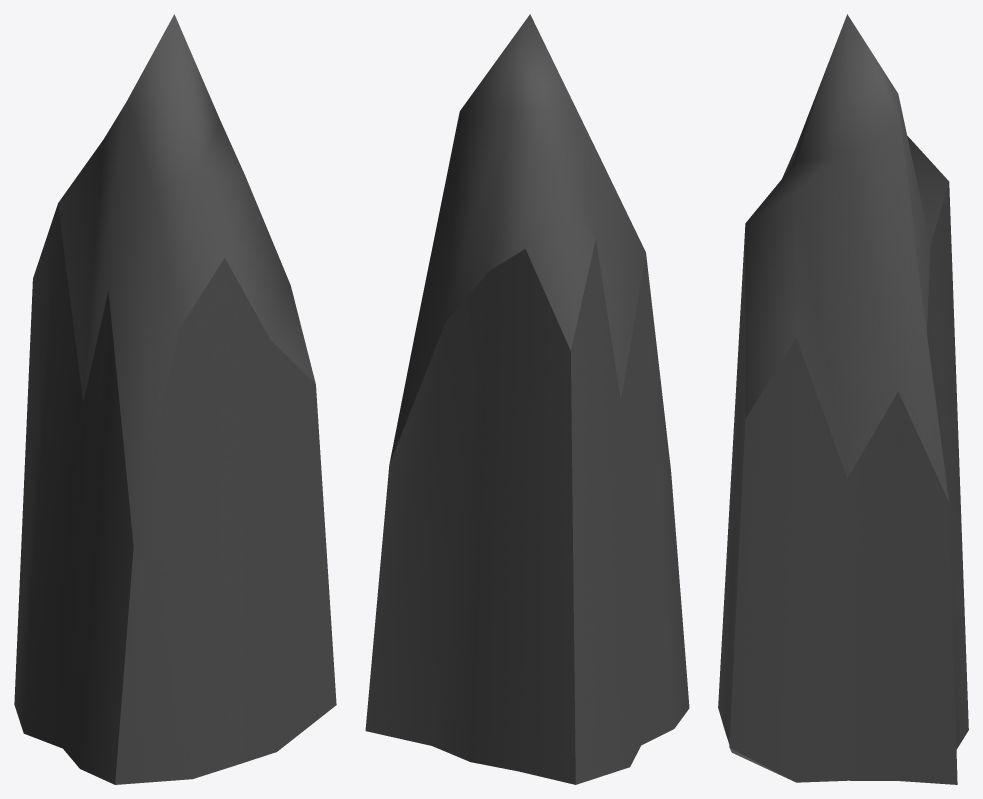
The model's file is Rock1.FBX.
3 views of the same model, side by side, from view 1: azimuth 30°, elevation 25°; view 2: azimuth 150°, elevation 25°; view 3: azimuth 270°, elevation 25° (orthographic).
Parts seen in each view (by area): view 1: Box001; view 2: Box001; view 3: Box001.
Part boxes in pixels (bbox=[...]): Box001: bbox=[14, 14, 336, 784]; Box001: bbox=[365, 14, 689, 784]; Box001: bbox=[718, 14, 968, 784].
Size of the model in its own units: 15.18 by 43.4 by 13.78.
